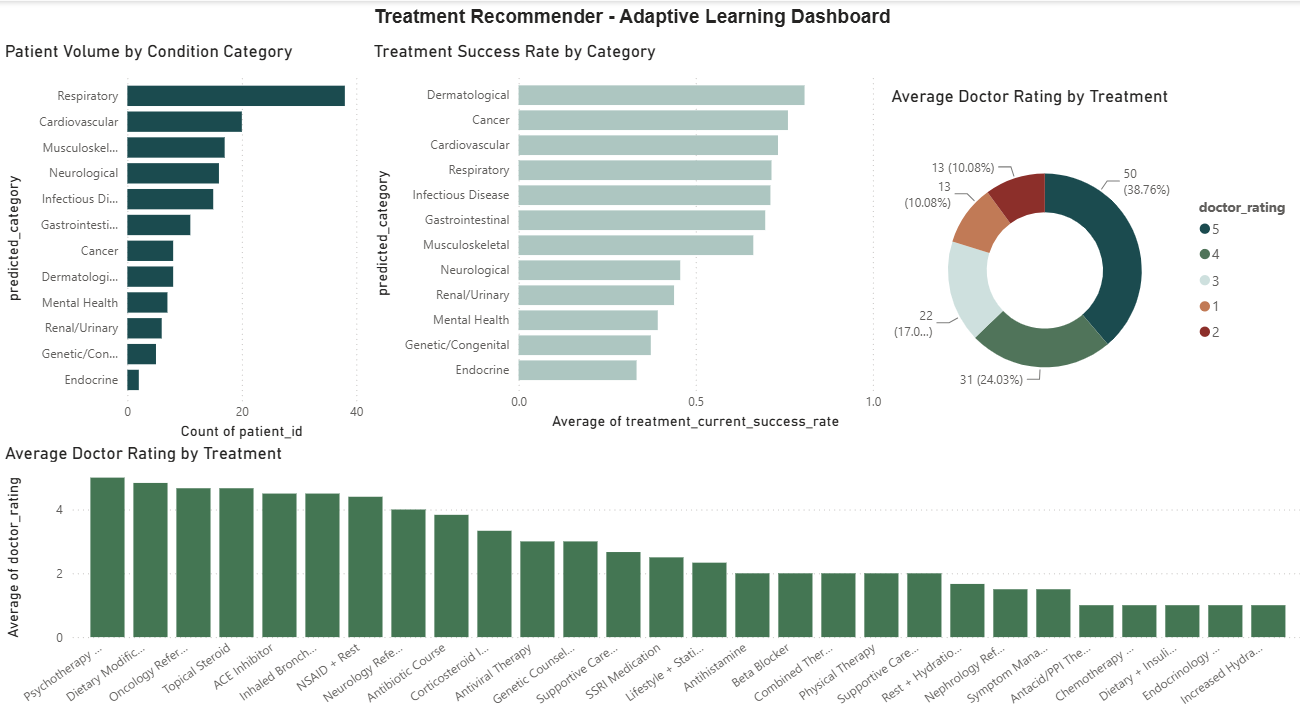

This screenshot's page, from the dashboard's own definition file:
{"tool":"powerbi","page":{"name":"Page 1","canvas":[1280,720],"ordinal":0},"visuals":[{"type":"clusteredBarChart","title":"Patient Volume by Condition Category","fields":{"Category":["dashboard_view.predicted_category"],"Y":["CountNonNull(dashboard_view.patient_id)"]},"box":[0,39.2,360.8,394.9],"z":0},{"type":"columnChart","title":"Average Doctor Rating by Treatment","fields":{"Category":["dashboard_view.treatment_name"],"Y":["Avg(dashboard_view.doctor_rating)"]},"box":[0,431.6,1279.7,288.6],"z":1},{"type":"clusteredBarChart","title":"Treatment Success Rate by Category","fields":{"Category":["dashboard_view.predicted_category"],"Y":["Avg(dashboard_view.treatment_current_success_rate)"]},"box":[360.8,39.2,506.3,384.8],"z":2},{"type":"donutChart","title":"Average Doctor Rating by Treatment","fields":{"Y":["CountNonNull(dashboard_view.patient_id)"],"Category":["dashboard_view.doctor_rating"]},"box":[867.1,83.5,412.7,340.5],"z":3},{"type":"textbox","box":[360.8,0,548.1,41.8],"z":4}]}

Visuals, with their boxes in screenshot pixels (x1, y1, x2, y2), scaled from the page's 1280x720 canvas onto the 1300x717 screenshot:
"Patient Volume by Condition Category" clusteredBarChart: bbox=(0, 39, 366, 432)
"Average Doctor Rating by Treatment" columnChart: bbox=(0, 430, 1299, 716)
"Treatment Success Rate by Category" clusteredBarChart: bbox=(366, 39, 881, 422)
"Average Doctor Rating by Treatment" donutChart: bbox=(881, 83, 1299, 422)
textbox: bbox=(366, 0, 923, 42)
